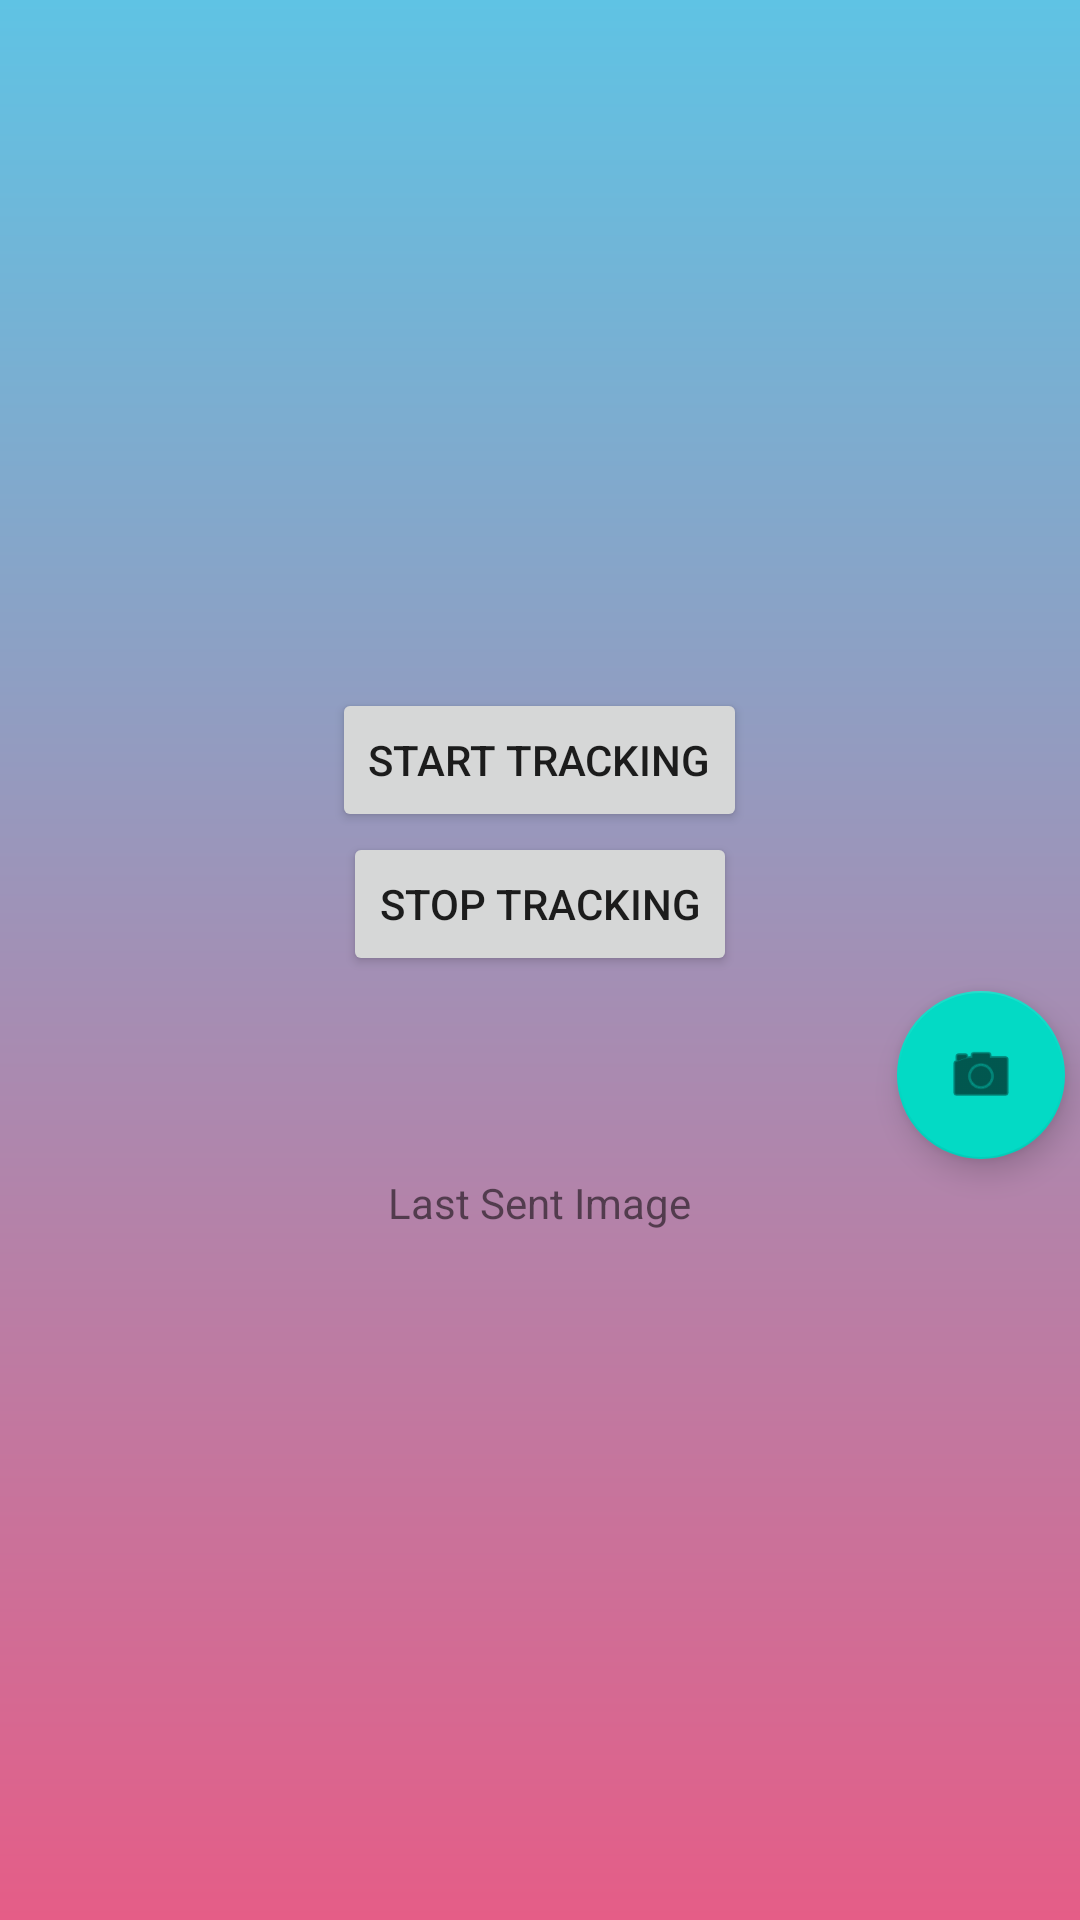

Where to tap for icons on this 1080px x 1920px app screen, as point (x, y):
camera: point (981, 1075)
